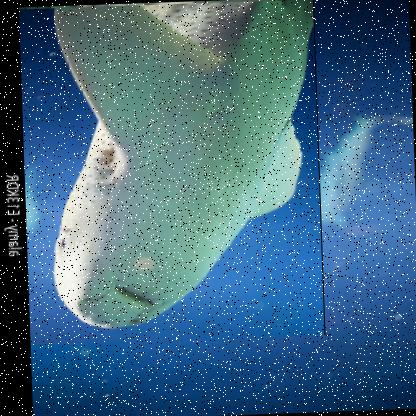zebra_shark: (17, 0, 326, 345)
